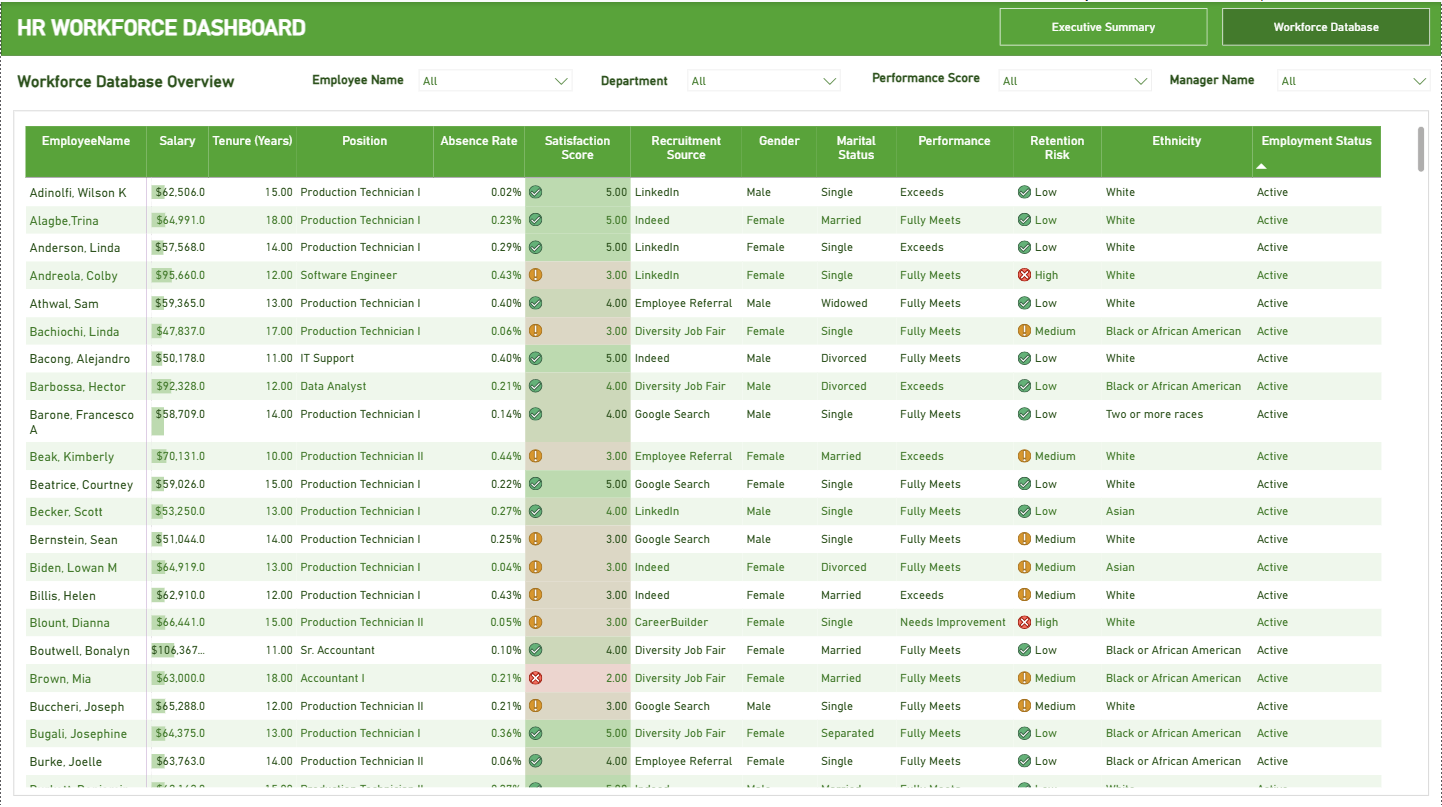

Layout of this report page (visuals, bound fields, positions):
{"tool":"powerbi","page":{"name":"Workforce Database","canvas":[1920,1080],"ordinal":1},"visuals":[{"type":"shape","box":[0,0,1920.6,77],"z":0},{"type":"textbox","box":[17,16,674.3,45.2],"z":1000},{"type":"pivotTable","title":"Global Workforce Database  Overview","fields":{"Rows":["Employee.EmployeeName"],"Values":["Employee.Salary Expenses","Employee.Avg. Tenure","Min(Employee.Position)","Employee.Avg. Absenteeism Rate","Employee.Avg. Satisfaction Score","Min(Employee.RecruitmentSource)","Min(Employee.Gender)","Min(Employee.MaritalStatus)","Min(Employee.Performance)","Min(Employee.Retention Risk)","Min(Employee.RaceDesc)","Min(Employee.EmploymentStatus)"]},"box":[17,150.2,1887.5,913.5],"z":2000},{"type":"textbox","box":[17,93.1,658.1,34.1],"z":3000},{"type":"pageNavigator","box":[1332,12.7,575.2,51],"z":4000},{"type":"slicer","fields":{"Values":["Employee.ManagerName"]},"box":[1691.5,85.2,224.5,46.5],"z":5000},{"type":"textbox","box":[1553.7,93.1,137.8,34.1],"z":6000},{"type":"slicer","fields":{"Values":["Department.Department"]},"box":[905.2,85.1,224.5,46.5],"z":7000},{"type":"textbox","box":[794.7,94.5,109.9,34.1],"z":8000},{"type":"slicer","fields":{"Values":["Performance.PerformanceScore"]},"box":[1319.7,85.2,224.5,46.5],"z":9000},{"type":"textbox","box":[1156.3,91.8,163.7,33.3],"z":10000},{"type":"slicer","fields":{"Values":["Employee.EmployeeName"]},"box":[546.9,85.2,224.9,46.6],"z":11000},{"type":"textbox","box":[409.8,93.1,141,33.3],"z":12000}]}

Visuals, with their boxes in screenshot pixels (x1, y1, x2, y2), scaled from the page's 1920x1080 canvas onto the 1442x807 screenshot:
shape: 0, 0, 1441, 58
textbox: 13, 12, 519, 46
"Global Workforce Database  Overview" pivotTable: 13, 112, 1430, 795
textbox: 13, 70, 507, 95
pageNavigator: 1000, 9, 1432, 48
slicer - Employee.ManagerName: 1270, 64, 1439, 98
textbox: 1167, 70, 1270, 95
slicer - Department.Department: 680, 64, 848, 98
textbox: 597, 71, 679, 96
slicer - Performance.PerformanceScore: 991, 64, 1160, 98
textbox: 868, 69, 991, 93
slicer - Employee.EmployeeName: 411, 64, 580, 98
textbox: 308, 70, 414, 94
